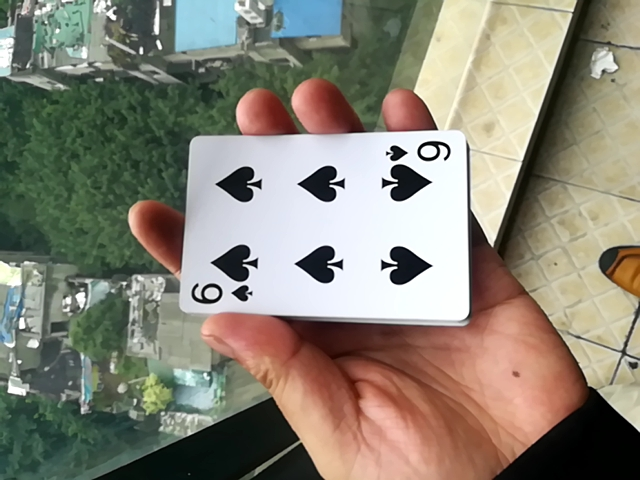ht 6: (160, 126, 468, 336)
